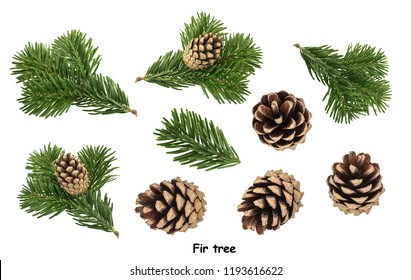Pc: (235, 166, 303, 233), (132, 176, 207, 235), (252, 87, 312, 151), (327, 151, 386, 215), (54, 153, 91, 196), (180, 33, 224, 69)
